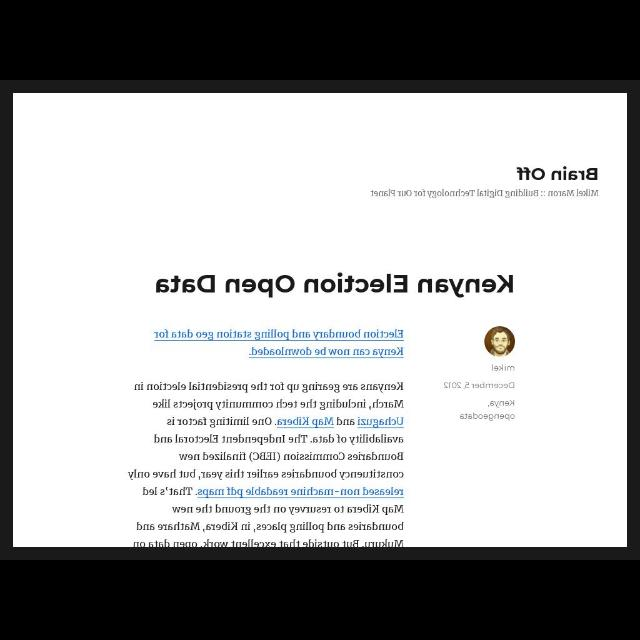image: (485, 327, 515, 355)
link: (152, 326, 404, 362), (196, 486, 404, 498), (277, 413, 335, 429), (356, 414, 404, 431)
text: (126, 380, 407, 548), (153, 269, 514, 307), (366, 186, 600, 198), (515, 168, 597, 185), (442, 380, 516, 390), (458, 410, 516, 422), (487, 396, 515, 409), (490, 362, 516, 373)
